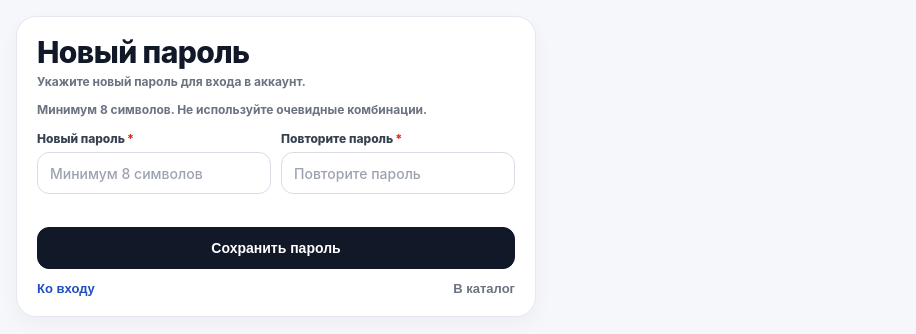
Test: Reset password UX › reset submit error is shown via toast only without inline duplicate
In the password field with placeholder "Минимум 8 символов": (154, 173) top-left (37, 152), bottom-right (271, 194), type "GoodLengthPass123!"
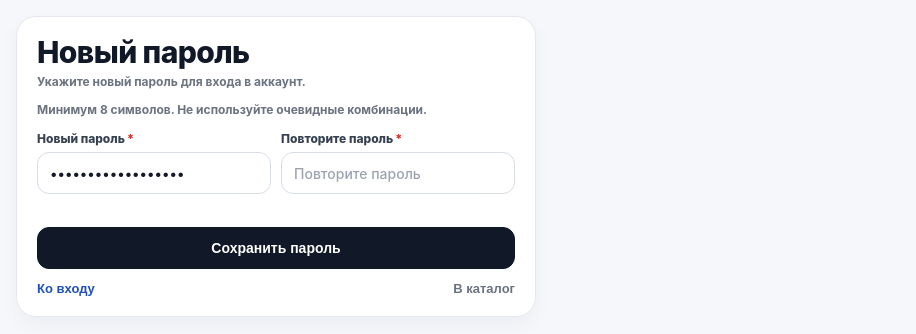
In the password field with placeholder "Повторите пароль": (398, 173) top-left (281, 152), bottom-right (515, 194), type "GoodLengthPass123!"
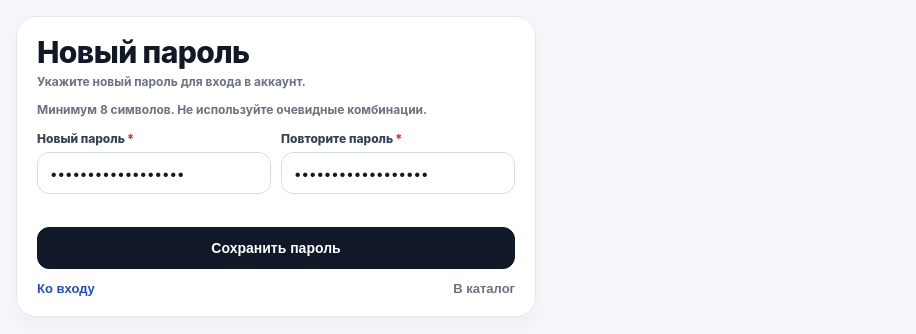
Click the button "Сохранить пароль": (276, 248) top-left (37, 227), bottom-right (515, 269)
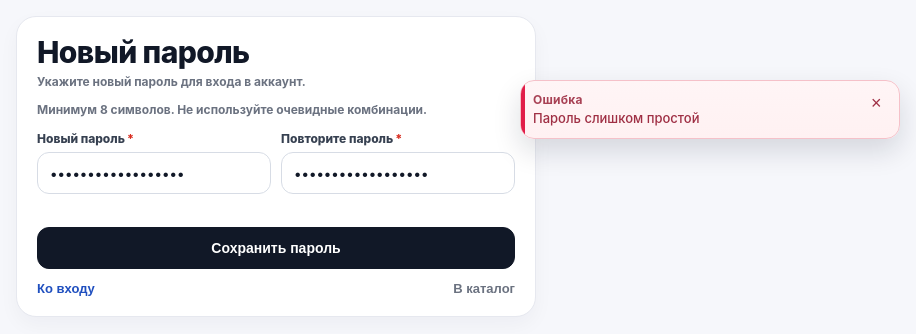
Expected: the text "Пароль слишком простой" is shown once, top-left (533, 110), bottom-right (700, 126)
